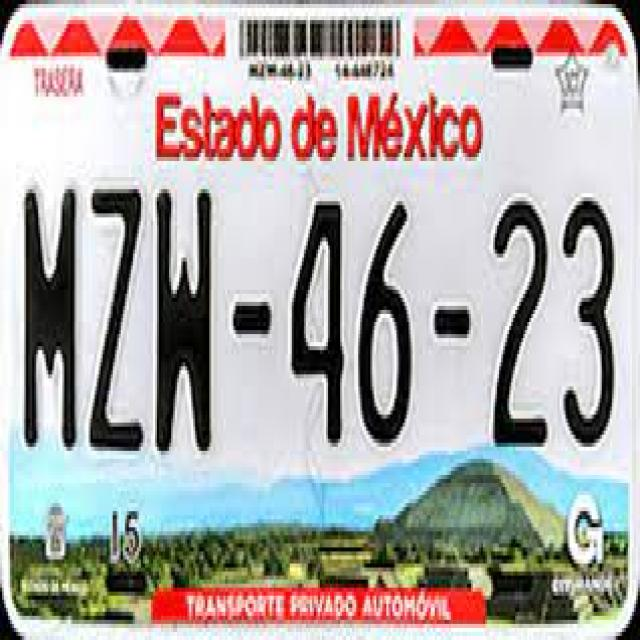placa: (6, 156, 631, 472)
